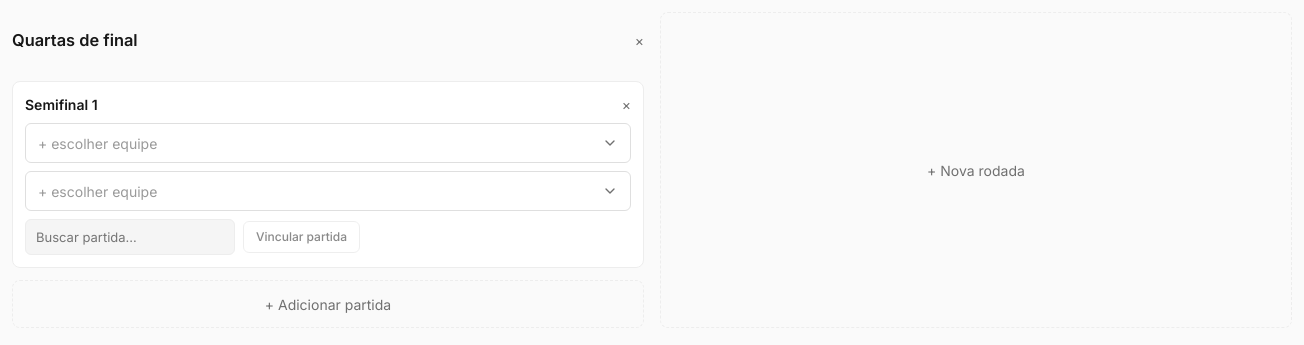
Test: BracketCanvas › link and unlink a match › clears the selection once the link is accepted
The width and height of the screenshot is (1304, 345).
In the dropdown with placeholder "Buscar partida…": (130, 237) [25,219,235,255], type "Alfa"
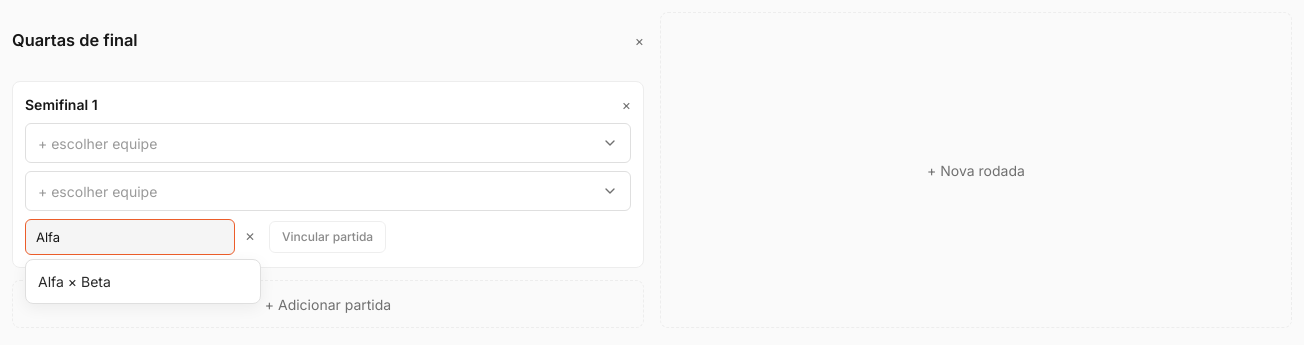
Click the option "Alfa × Beta": (74, 282) [38,273,111,290]
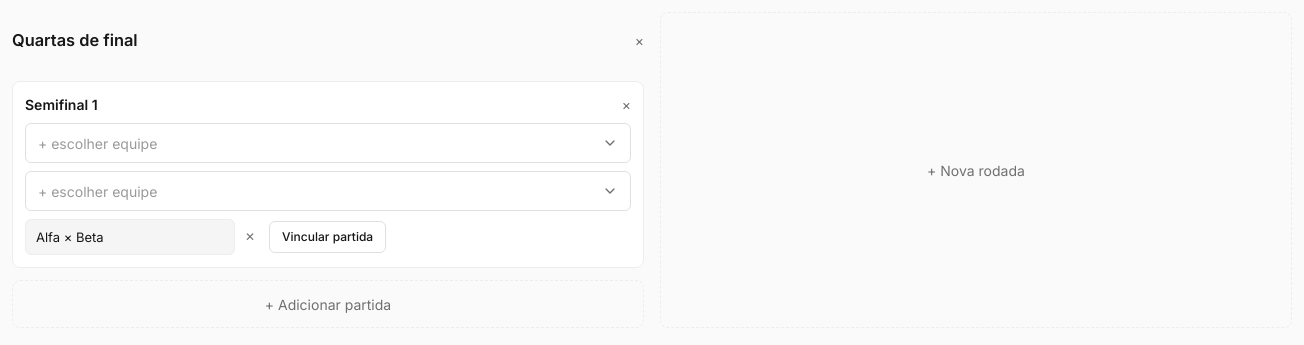
Click the button "Vincular partida": (328, 237) [269,221,386,253]
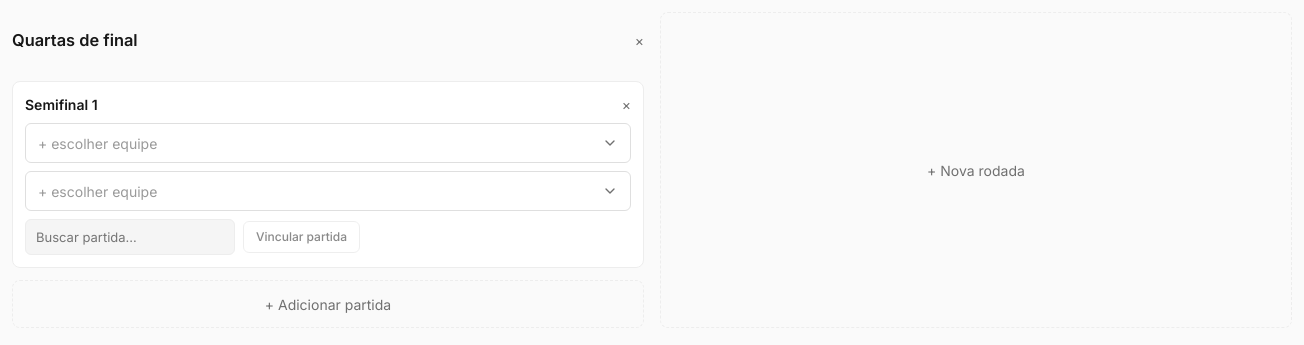
Expected: the button "Vincular partida" is disabled, [243,221,360,253]
